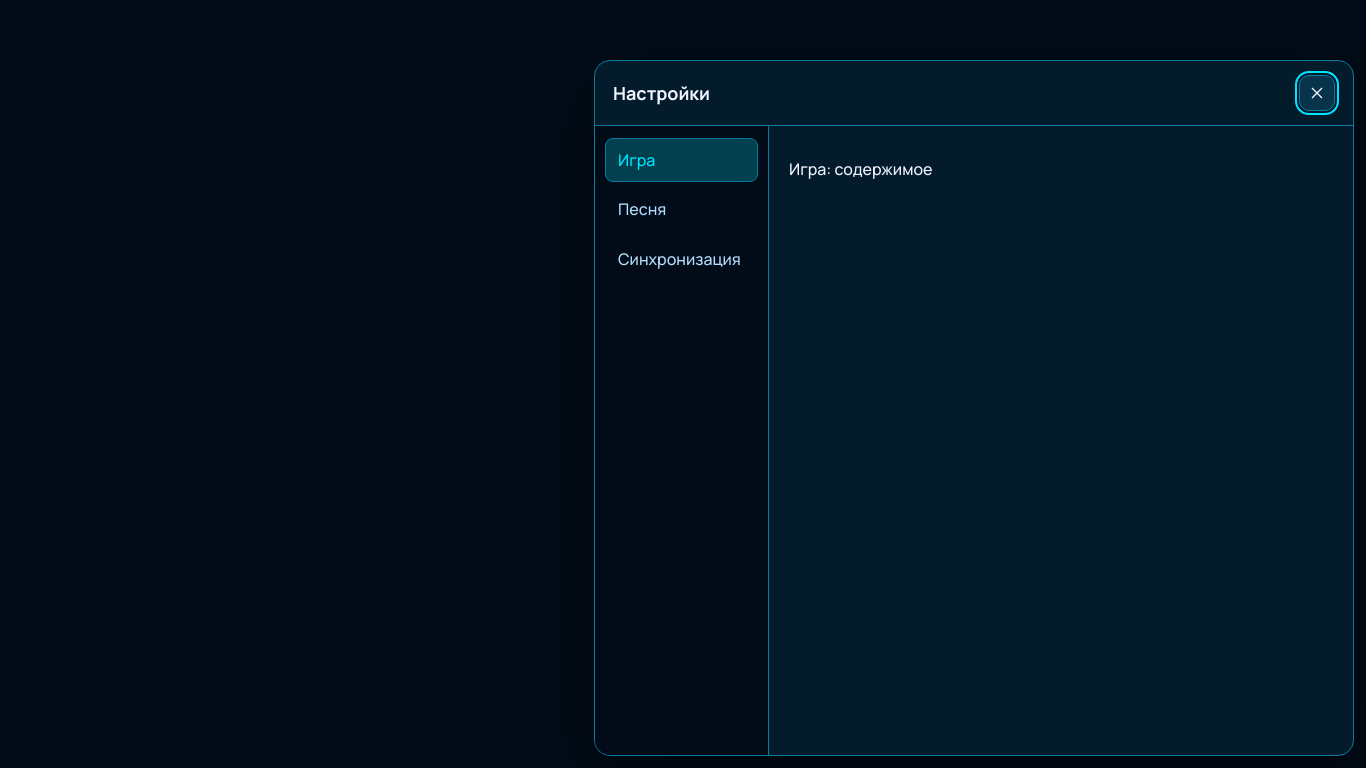
Test case: settings section navigation › associates the selected tab with its panel and keeps one tab in the tab order
expect the panel reads "Игра: содержимое": met, box 789,158 -> 932,180
Click the tab "Песня".
click(682, 210)  # box 605,187 -> 758,232
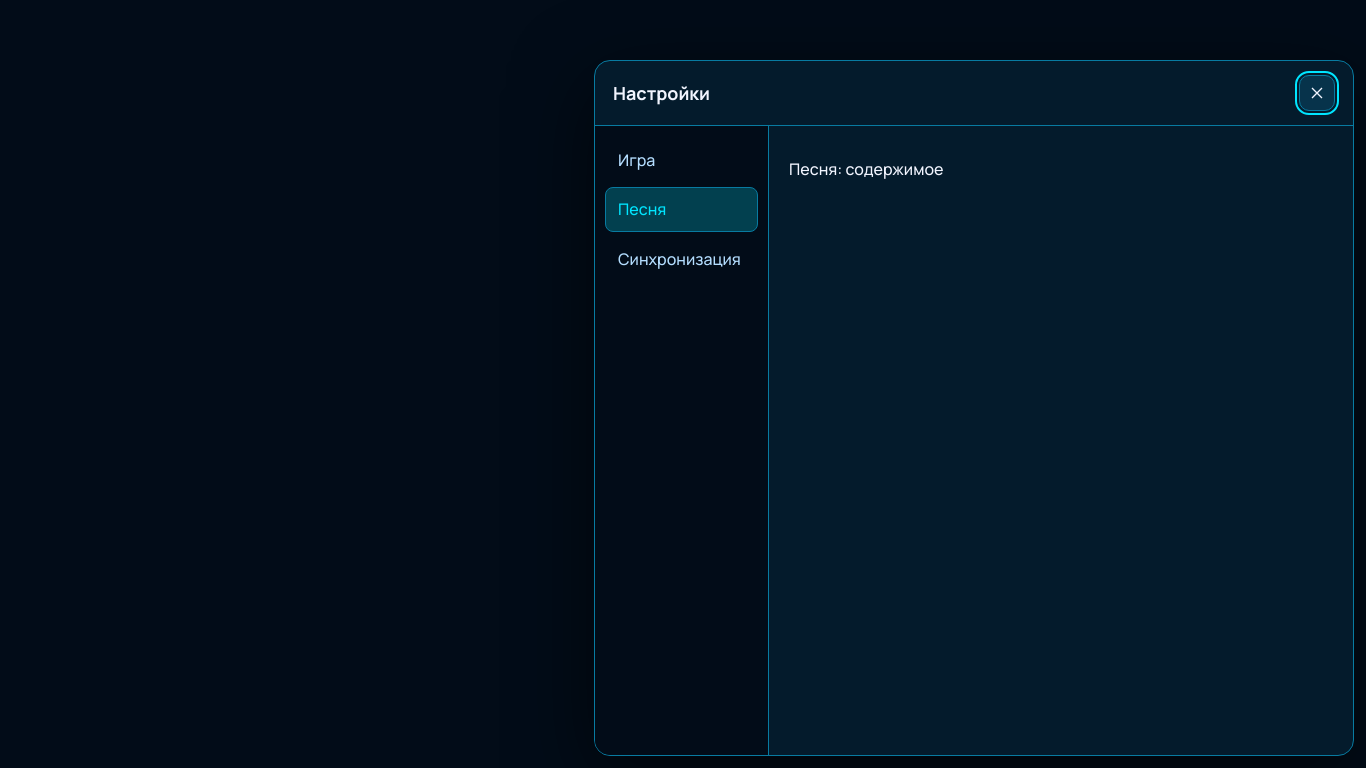
expect the panel reads "Песня: содержимое": met, box 789,158 -> 944,180
